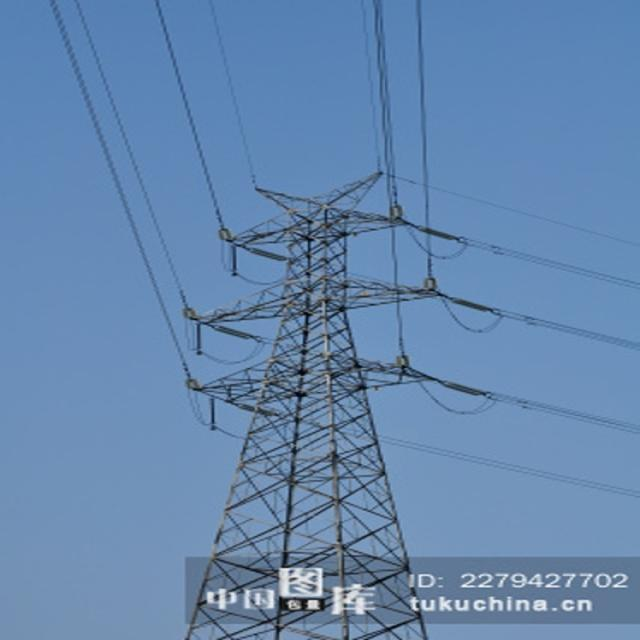non-critical vegetation: (186, 176, 448, 636)
